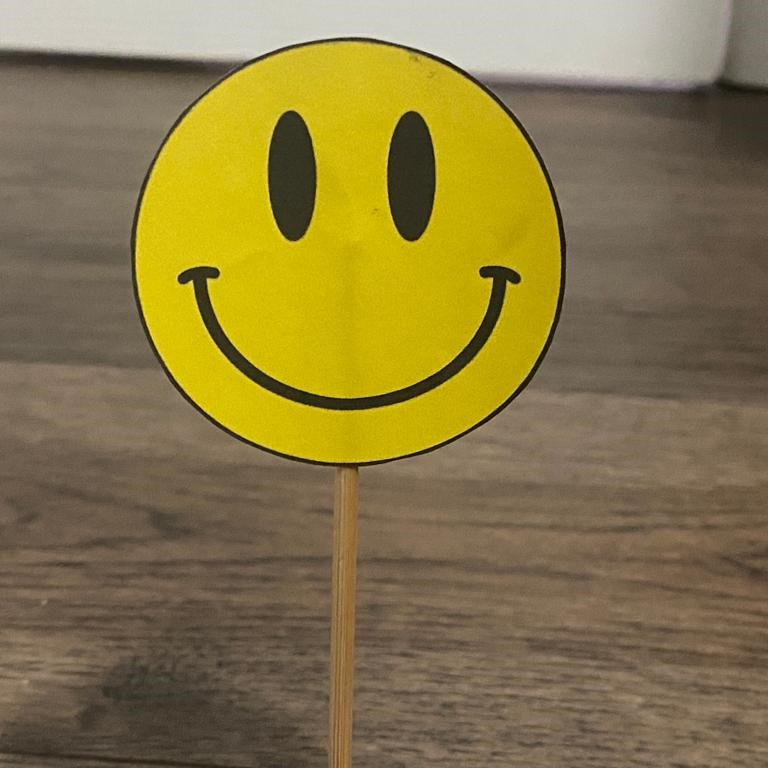Person: (124, 34, 582, 465)
